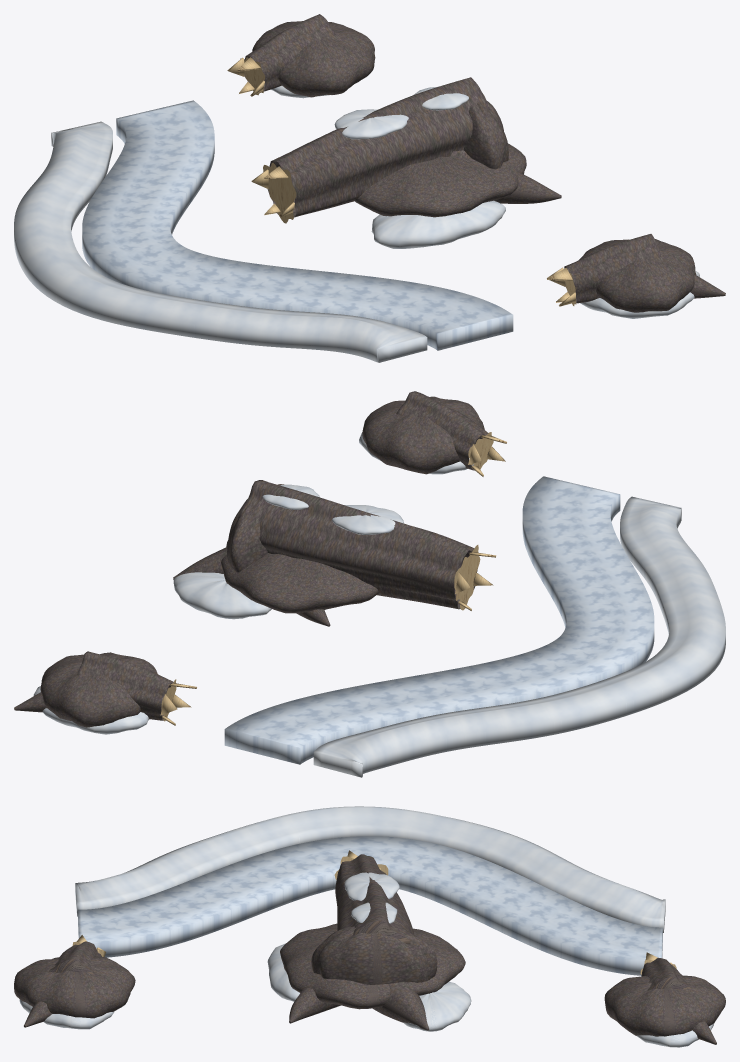
The model's file is hero-root-turn-v1.glb.
3 renders of one model, top to bottom at view 1: azimuth 30°, elevation 25°; view 2: azimuth 150°, elevation 25°; view 3: azimuth 270°, elevation 25°, orthographic. The views are drawn at different scales.
Visible parts, largest first — view 1: HeroRoot_WalkRibbon_LOD0, HeroRoot_WashoutBank_West_LOD0, HeroRoot_Trunk_Center_LOD0, HeroRoot_CentralButtress_LOD0, HeroRoot_EntryButtress_LOD0, HeroRoot_ExitButtress_LOD0, HeroRoot_SnowMound_CentralEast_LOD0, HeroRoot_Trunk_Right_LOD0, HeroRoot_Trunk_Left_LOD0, HeroRoot_CentralRootPlate_LOD0, HeroRoot_SnowCap_TrunkCenter_A_LOD0, HeroRoot_Buttress_Root_South (+4 smaller); view 2: HeroRoot_WalkRibbon_LOD0, HeroRoot_WashoutBank_West_LOD0, HeroRoot_Trunk_Center_LOD0, HeroRoot_CentralButtress_LOD0, HeroRoot_ExitButtress_LOD0, HeroRoot_EntryButtress_LOD0, HeroRoot_SnowMound_CentralNorth_LOD0, HeroRoot_Trunk_Left_LOD0, HeroRoot_Trunk_Right_LOD0, HeroRoot_CentralRootPlate_LOD0, HeroRoot_SnowCap_TrunkCenter_A_LOD0, HeroRoot_SnowMound_Entry_LOD0 (+3 smaller); view 3: HeroRoot_WalkRibbon_LOD0, HeroRoot_WashoutBank_West_LOD0, HeroRoot_CentralRootPlate_LOD0, HeroRoot_EntryButtress_LOD0, HeroRoot_CentralButtress_LOD0, HeroRoot_ExitButtress_LOD0, HeroRoot_Trunk_Center_LOD0, HeroRoot_SnowMound_CentralNorth_LOD0, HeroRoot_Buttress_Root_East, HeroRoot_Trunk_Left_LOD0, HeroRoot_Trunk_Right_LOD0, HeroRoot_SnowCap_TrunkCenter_A_LOD0 (+6 smaller).
Boxes of the visible parts, bbox=[...] form: HeroRoot_WalkRibbon_LOD0: bbox=[82, 100, 513, 350]; HeroRoot_WashoutBank_West_LOD0: bbox=[14, 121, 427, 362]; HeroRoot_Trunk_Center_LOD0: bbox=[267, 77, 495, 217]; HeroRoot_CentralButtress_LOD0: bbox=[354, 143, 526, 217]; HeroRoot_EntryButtress_LOD0: bbox=[252, 21, 375, 97]; HeroRoot_ExitButtress_LOD0: bbox=[579, 239, 696, 312]; HeroRoot_SnowMound_CentralEast_LOD0: bbox=[371, 200, 505, 248]; HeroRoot_Trunk_Right_LOD0: bbox=[564, 234, 663, 303]; HeroRoot_Trunk_Left_LOD0: bbox=[244, 14, 338, 91]; HeroRoot_CentralRootPlate_LOD0: bbox=[464, 101, 508, 169]; HeroRoot_SnowCap_TrunkCenter_A_LOD0: bbox=[334, 109, 408, 139]; HeroRoot_Buttress_Root_South: bbox=[451, 150, 561, 203]; HeroRoot_WalkRibbon_LOD0: bbox=[224, 476, 654, 764]; HeroRoot_WashoutBank_West_LOD0: bbox=[313, 496, 725, 777]; HeroRoot_Trunk_Center_LOD0: bbox=[238, 480, 477, 609]; HeroRoot_CentralButtress_LOD0: bbox=[221, 541, 378, 613]; HeroRoot_ExitButtress_LOD0: bbox=[362, 396, 484, 474]; HeroRoot_EntryButtress_LOD0: bbox=[40, 652, 157, 727]; HeroRoot_SnowMound_CentralNorth_LOD0: bbox=[173, 572, 271, 619]; HeroRoot_Trunk_Left_LOD0: bbox=[77, 651, 173, 720]; HeroRoot_Trunk_Right_LOD0: bbox=[396, 391, 489, 470]; HeroRoot_CentralRootPlate_LOD0: bbox=[227, 484, 283, 572]; HeroRoot_SnowCap_TrunkCenter_A_LOD0: bbox=[332, 505, 403, 534]; HeroRoot_SnowMound_Entry_LOD0: bbox=[33, 686, 149, 734]; HeroRoot_WalkRibbon_LOD0: bbox=[78, 836, 662, 975]; HeroRoot_WashoutBank_West_LOD0: bbox=[75, 806, 665, 932]; HeroRoot_CentralRootPlate_LOD0: bbox=[311, 926, 437, 984]; HeroRoot_EntryButtress_LOD0: bbox=[604, 975, 725, 1036]; HeroRoot_CentralButtress_LOD0: bbox=[280, 923, 465, 1009]; HeroRoot_ExitButtress_LOD0: bbox=[14, 956, 135, 1018]; HeroRoot_Trunk_Center_LOD0: bbox=[335, 854, 413, 945]; HeroRoot_SnowMound_CentralNorth_LOD0: bbox=[403, 982, 471, 1031]; HeroRoot_Buttress_Root_East: bbox=[372, 982, 428, 1030]; HeroRoot_Trunk_Left_LOD0: bbox=[641, 957, 691, 991]; HeroRoot_Trunk_Right_LOD0: bbox=[48, 941, 101, 974]; HeroRoot_SnowCap_TrunkCenter_A_LOD0: bbox=[344, 872, 399, 900].
Bounding box in the file's own units: 14.34 × 3.38 × 19.53.
Materials: 4 (4 with a texture image).
